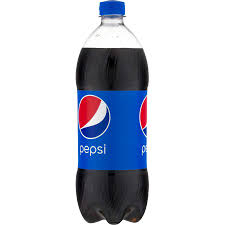pepsi_bottle: (75, 1, 149, 225)
